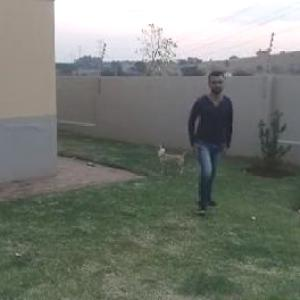follow: (183, 66, 232, 215)
